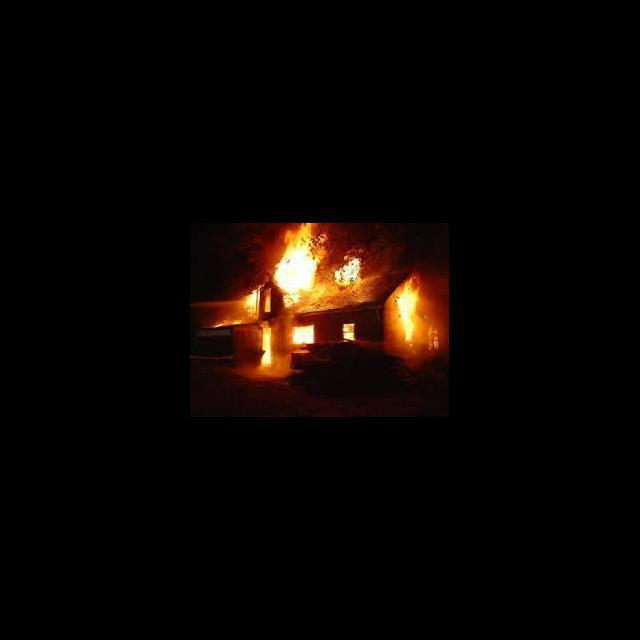Fire: (272, 223, 326, 307), (392, 276, 422, 347), (332, 253, 363, 290), (243, 284, 260, 318), (262, 326, 274, 368), (292, 325, 314, 344), (214, 316, 242, 330), (428, 326, 441, 351), (344, 322, 356, 342), (265, 288, 272, 312)
